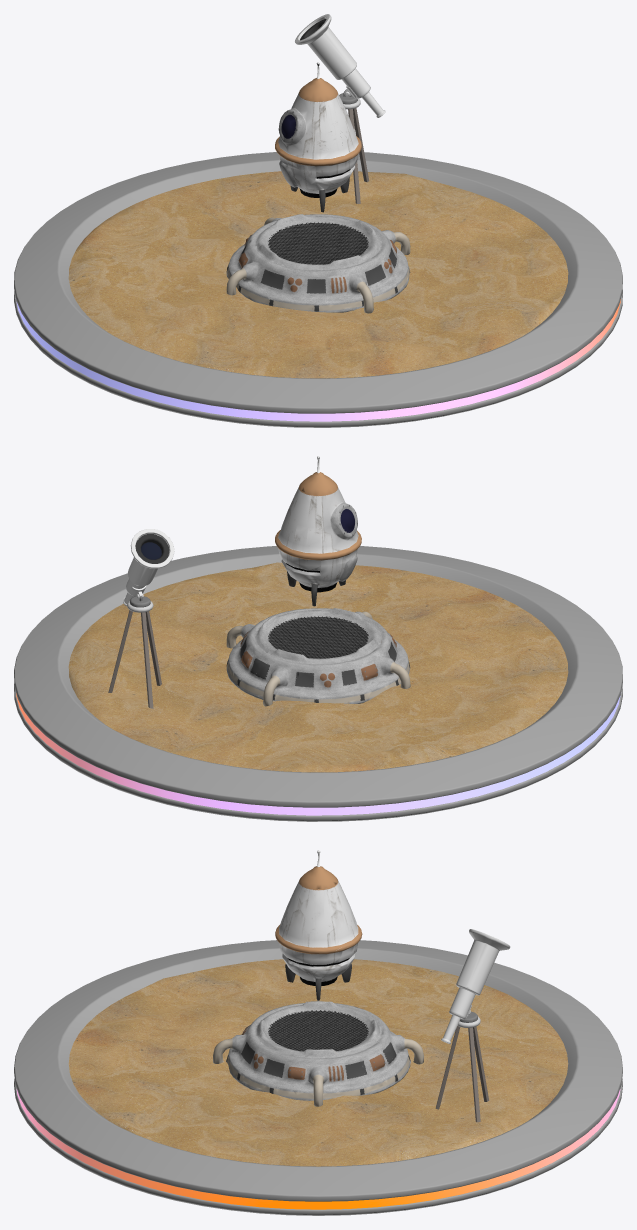
The model's file is musecraft.glb.
3 renders of one model, top to bottom at view 1: azimuth 30°, elevation 25°; view 2: azimuth 150°, elevation 25°; view 3: azimuth 270°, elevation 25°, orthographic.
Parts seen in each view (by area): view 1: sandbox, platform, rocket, telescope; view 2: sandbox, platform, rocket, telescope; view 3: sandbox, platform, rocket, telescope.
Part boxes in pixels (x1,y1,x2,y2): sandbox: (14,152,622,427); platform: (226,214,410,313); rocket: (275,62,361,212); telescope: (295,14,385,203); sandbox: (14,546,622,821); platform: (226,608,410,706); rocket: (275,456,361,606); telescope: (108,529,174,708); sandbox: (14,940,622,1215); platform: (213,1000,423,1106); rocket: (275,850,362,1000); telescope: (435,929,510,1122).
Bounding box in the file's own units: 12 × 5.28 × 12.
6 materials, 5 textured.
